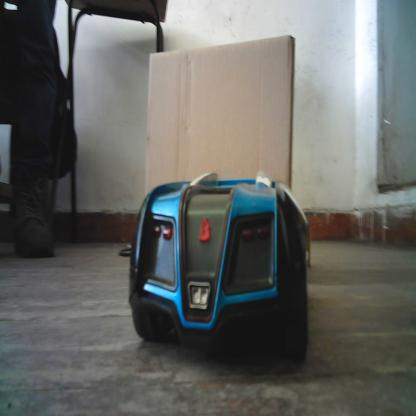LeadTruck: (142, 37, 298, 260)
